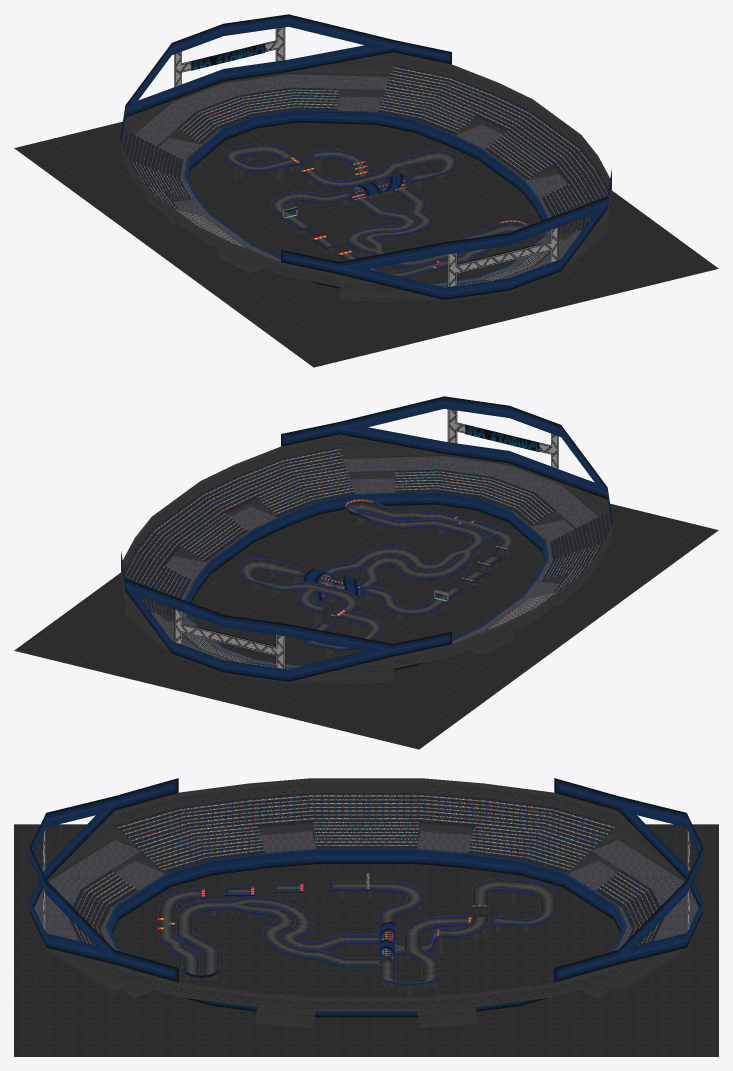
The picture shows the model from 3 angles, top to bottom: view 1: azimuth 30°, elevation 25°; view 2: azimuth 150°, elevation 25°; view 3: azimuth 270°, elevation 25°; orthographic projection. The views are drawn at different scales.
Parts seen in each view (by area): view 1: polygon16.002, polygon6.003, polygon13.002, polygon9.003, polygon14.002, polygon10.002, polygon3.003, polygon4.003, polygon11.002, polygon2.003, polygon15.002, polygon12.002; view 2: polygon16.002, polygon6.003, polygon13.002, polygon9.003, polygon14.002, polygon10.002, polygon3.003, polygon4.003, polygon2.003, polygon11.002, polygon15.002, polygon12.002 (+1 smaller); view 3: polygon16.002, polygon9.003, polygon6.003, polygon13.002, polygon14.002, polygon3.003, polygon10.002, polygon4.003, polygon2.003, polygon15.002, polygon11.002.
Part boxes in pixels (box(x1,y1,x2,y2)): polygon16.002: box(14, 121, 718, 367); polygon6.003: box(121, 14, 611, 299); polygon13.002: box(122, 65, 608, 280); polygon9.003: box(121, 52, 611, 301); polygon14.002: box(125, 66, 607, 287); polygon10.002: box(134, 74, 581, 286); polygon3.003: box(224, 143, 519, 276); polygon4.003: box(224, 143, 526, 276); polygon11.002: box(174, 27, 558, 286); polygon2.003: box(223, 142, 524, 277); polygon15.002: box(184, 109, 548, 283); polygon12.002: box(191, 43, 541, 261); polygon16.002: box(14, 503, 718, 749); polygon6.003: box(121, 396, 611, 681); polygon13.002: box(124, 447, 610, 662); polygon9.003: box(121, 434, 611, 683); polygon14.002: box(125, 448, 607, 669); polygon10.002: box(151, 456, 598, 668); polygon3.003: box(239, 501, 515, 648); polygon4.003: box(239, 501, 515, 648); polygon2.003: box(238, 501, 515, 649); polygon11.002: box(174, 409, 558, 668); polygon15.002: box(184, 491, 548, 665); polygon12.002: box(193, 425, 539, 644); polygon16.002: box(14, 824, 718, 1056); polygon9.003: box(30, 778, 702, 1027); polygon6.003: box(30, 778, 702, 1017); polygon13.002: box(68, 793, 664, 944); polygon14.002: box(74, 795, 658, 944); polygon3.003: box(157, 879, 557, 982); polygon10.002: box(34, 831, 698, 951); polygon4.003: box(157, 880, 556, 982); polygon2.003: box(157, 878, 557, 983); polygon15.002: box(105, 848, 627, 983); polygon11.002: box(43, 830, 689, 930).
Bounding box in the file's own units: 108003 × 21145 × 138392.
17 materials, 17 textured.
